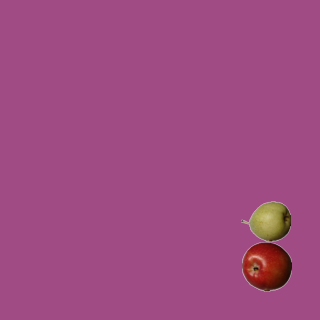Apple Braeburn: (241, 241, 291, 291)
Pear: (240, 196, 290, 246)
